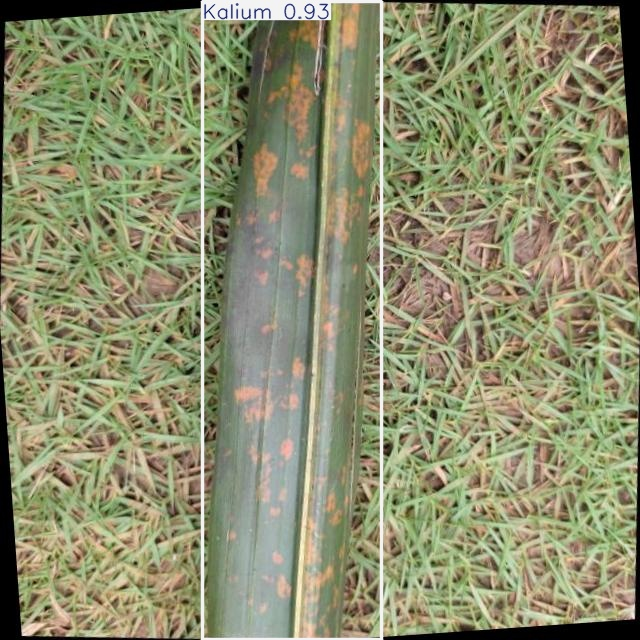Kalium: (202, 1, 382, 640)
